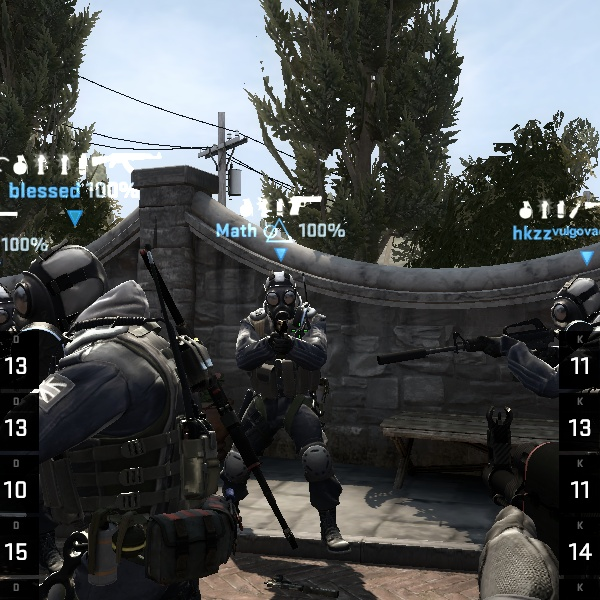ct_head: (253, 265, 314, 325), (547, 267, 597, 339)
